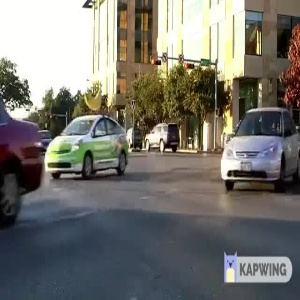car: (214, 102, 299, 193), (43, 113, 133, 178)
suv: (141, 119, 184, 155)
